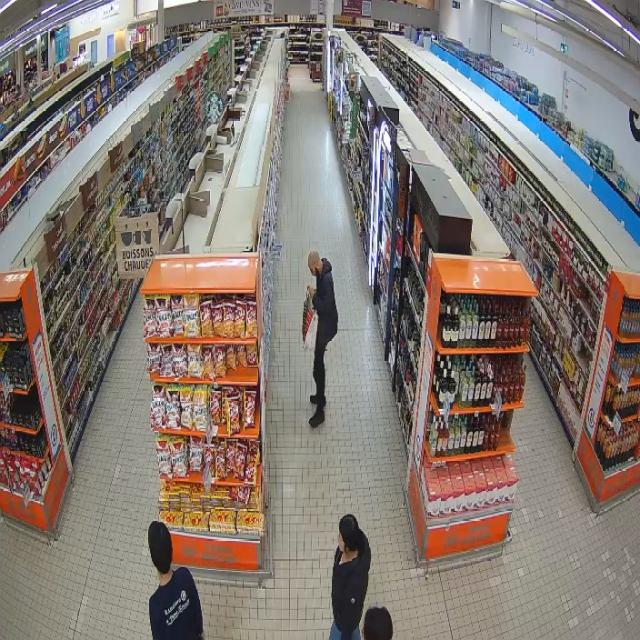bags: (302, 295, 317, 350)
hands: (308, 286, 316, 297)
person: (149, 522, 203, 639), (308, 252, 338, 427), (330, 515, 370, 639), (363, 607, 392, 639)
